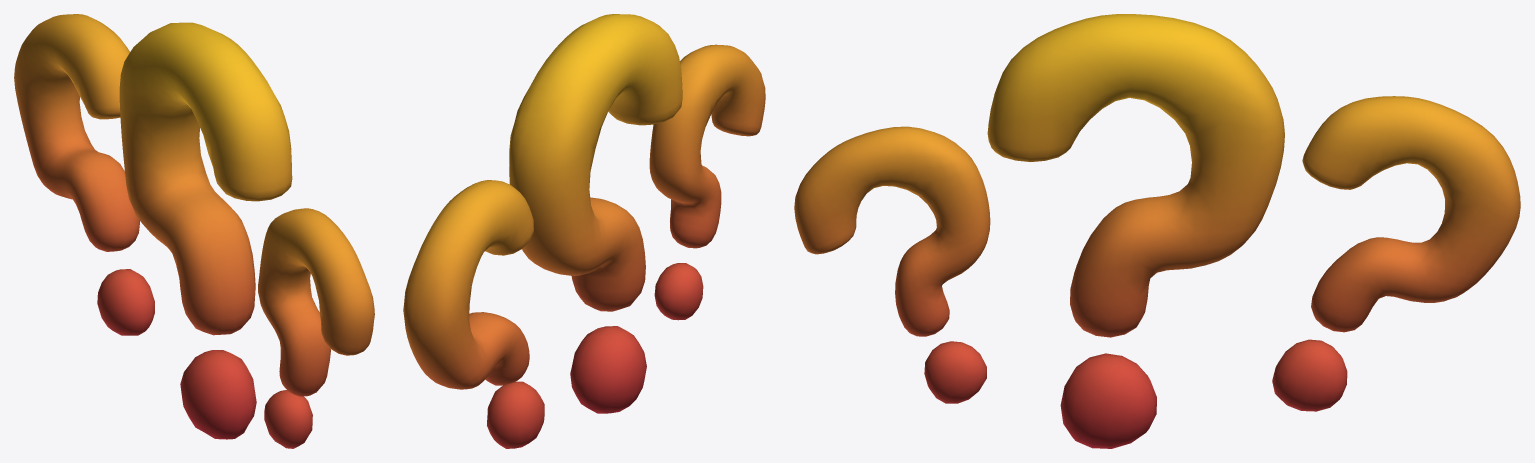
Rendered from QuestionMarkTriple.dae.
3 renders of one model, left to right at view 1: azimuth 30°, elevation 25°; view 2: azimuth 150°, elevation 25°; view 3: azimuth 270°, elevation 25°, orthographic. The views are drawn at different scales.
Visible parts, largest first — view 1: Cube_000; view 2: Cube_000; view 3: Cube_000.
Boxes of the visible parts, x1,y1,x2,y2 form: Cube_000: [14, 14, 374, 448]; Cube_000: [403, 14, 765, 448]; Cube_000: [794, 14, 1520, 448].
Bounding box in the file's own units: 0.5194 × 4.48 × 2.91.
1 material, 1 textured.
